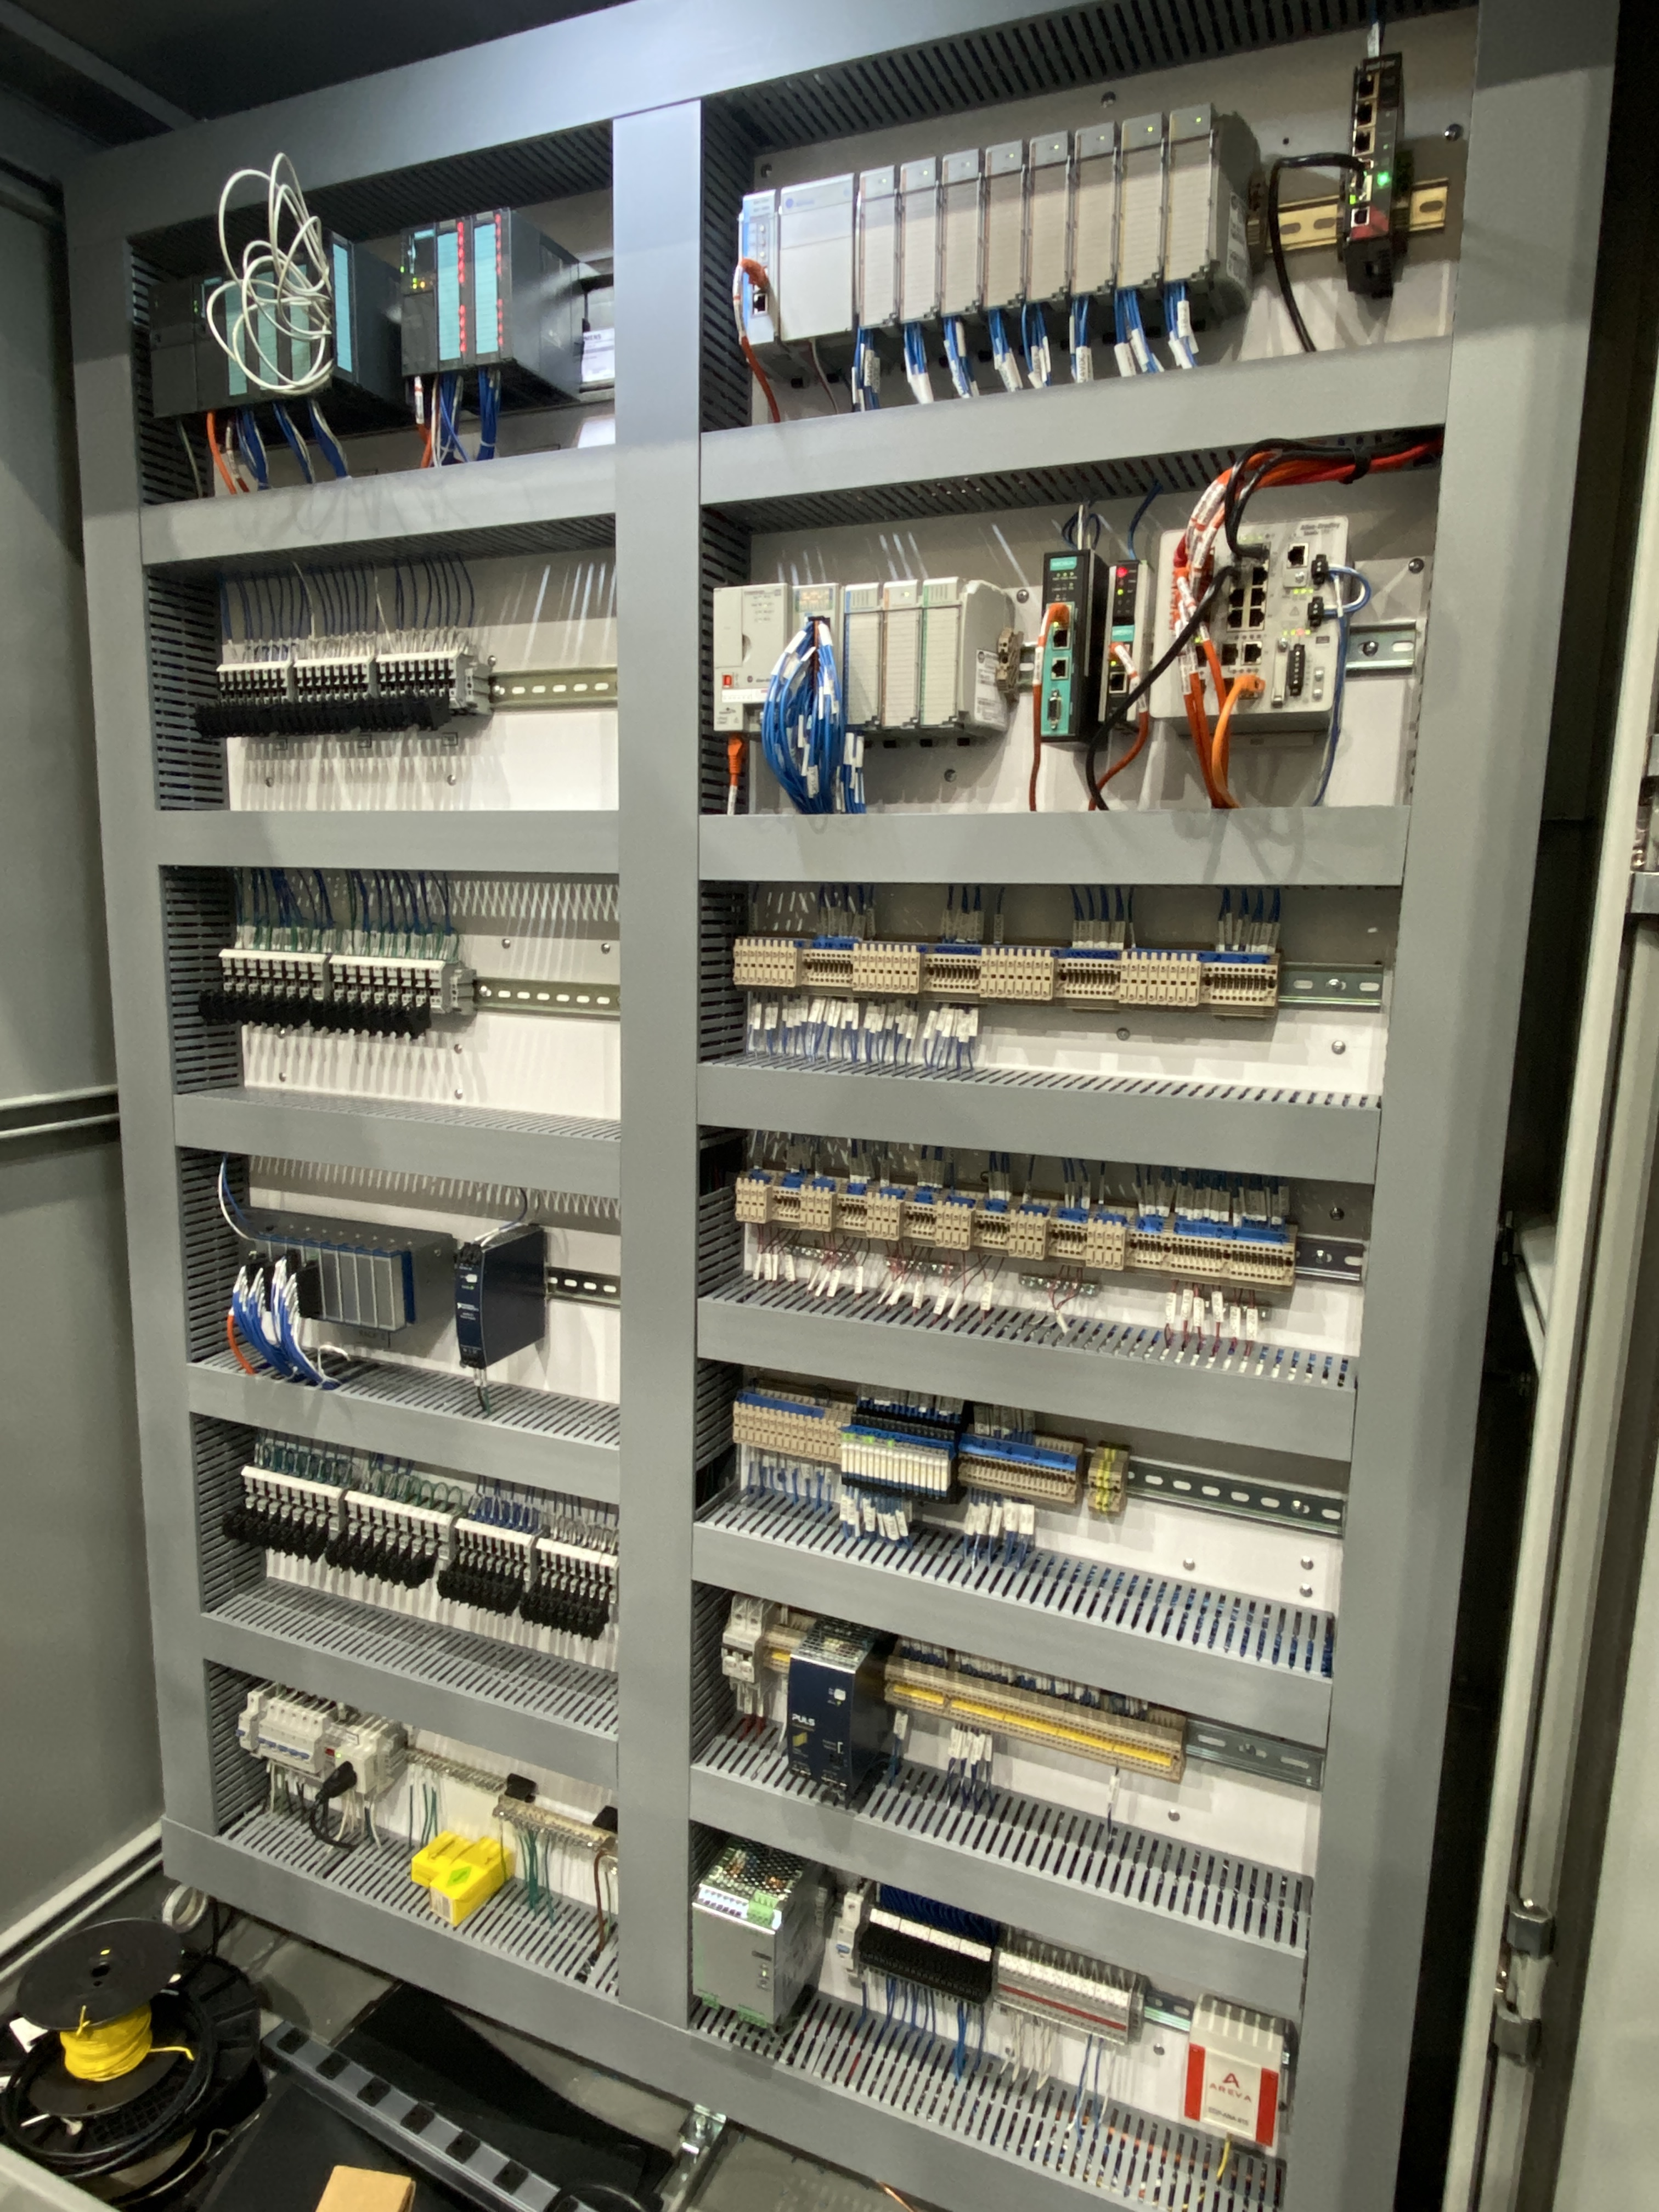AllenBradley: (711, 585, 784, 732)
Siemens: (192, 275, 237, 411)
